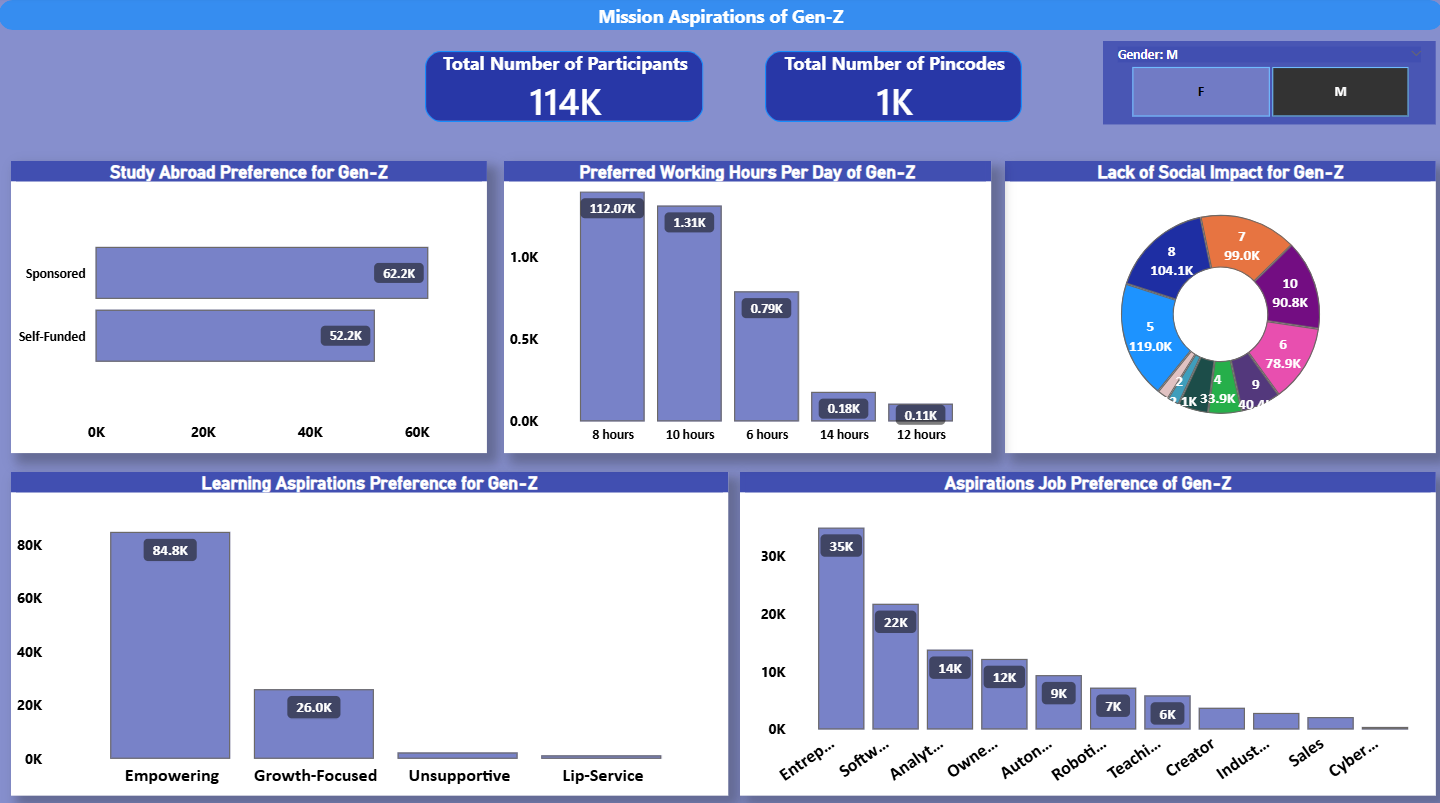

What the dashboard file says about the page in this screenshot:
{"tool":"powerbi","page":{"name":"Dash2","canvas":[1280,720],"ordinal":1},"visuals":[{"type":"barChart","title":"Study Abroad Preference for Gen-Z","fields":{"Category":["SourceData.Study Abroad"],"Y":["CountNonNull(SourceData.Study Abroad)"]},"box":[10.6,145.4,422.1,258.9],"z":0},{"type":"columnChart","title":"Learning Aspirations Preference for Gen-Z","fields":{"Category":["SourceData.Learning Aspirations"],"Y":["CountNonNull(SourceData.Aspirational job )"]},"box":[10.6,421.2,635.8,287.3],"z":1000},{"type":"columnChart","title":"Aspirations Job Preference of Gen-Z","fields":{"Category":["SourceData.Aspirational job "],"Y":["CountNonNull(SourceData.Aspirational job )"]},"box":[657,421.2,617.1,287.3],"z":2000},{"type":"donutChart","title":"Lack of Social Impact for Gen-Z","fields":{"Category":["SourceData.Lack of Social Impact"],"Y":["Sum(SourceData.Lack of Social Impact)"]},"box":[892,145.4,382.2,258.9],"z":3000},{"type":"columnChart","title":"Preferred Working Hours Per Day of Gen-Z","fields":{"Category":["SourceData.Working Hours"],"Y":["CountNonNull(SourceData.Working Hours)"]},"box":[447.8,145.4,431.8,258.9],"z":4000},{"type":"cardVisual","fields":{"Data":["SourceData.Total Number of Participants"]},"box":[362.7,32.8,277.5,94],"z":5000},{"type":"cardVisual","fields":{"Data":["SourceData.Pincodes"]},"box":[664.1,32.8,258.9,94],"z":6000},{"type":"slicer","fields":{"Values":["SourceData. Gender"]},"box":[978.9,39,295.3,74.5],"z":7000},{"type":"shape","box":[0,2.7,1280.4,26.6],"z":8000}]}

Visuals, with their boxes in screenshot pixels (x1, y1, x2, y2), scaled from the page's 1280x720 canvas onto the 1440x803 screenshot:
"Study Abroad Preference for Gen-Z" barChart: BBox(12, 162, 487, 451)
"Learning Aspirations Preference for Gen-Z" columnChart: BBox(12, 470, 727, 790)
"Aspirations Job Preference of Gen-Z" columnChart: BBox(739, 470, 1433, 790)
"Lack of Social Impact for Gen-Z" donutChart: BBox(1004, 162, 1433, 451)
"Preferred Working Hours Per Day of Gen-Z" columnChart: BBox(504, 162, 990, 451)
cardVisual - SourceData.Total Number of Participants: BBox(408, 37, 720, 141)
cardVisual - SourceData.Pincodes: BBox(747, 37, 1038, 141)
slicer - SourceData. Gender: BBox(1101, 43, 1433, 127)
shape: BBox(0, 3, 1439, 33)
